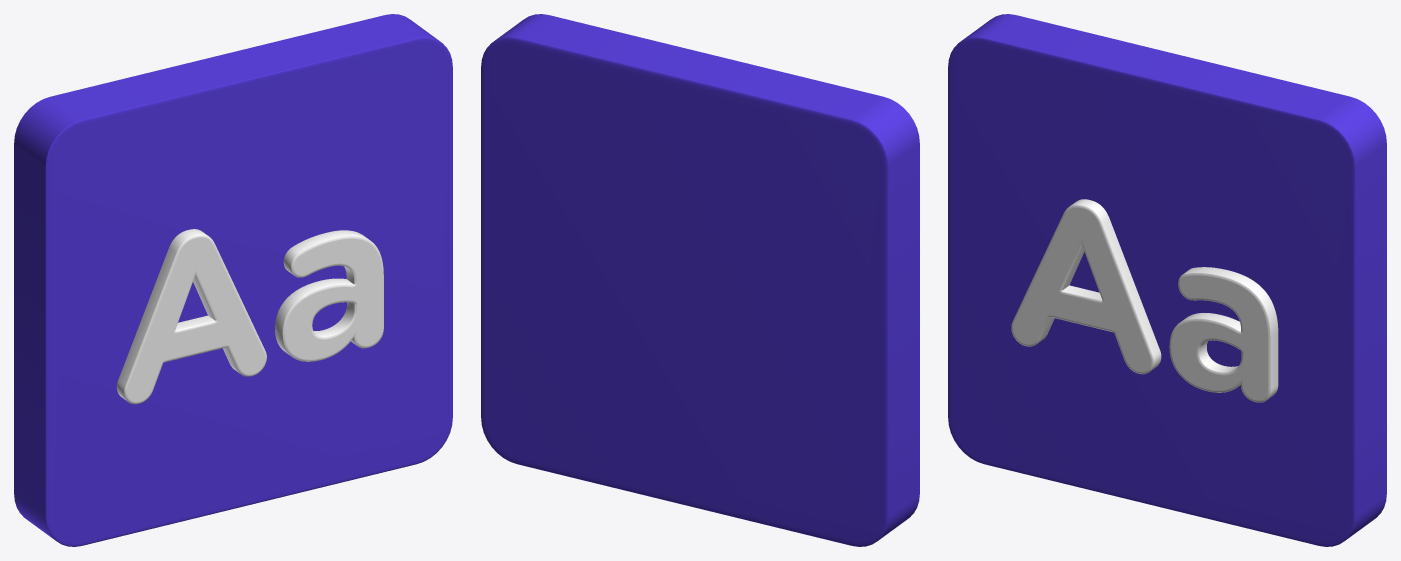
3 views of the same model, side by side, from view 1: azimuth 30°, elevation 25°; view 2: azimuth 150°, elevation 25°; view 3: azimuth 330°, elevation 25° (orthographic).
Visible parts, largest first — view 1: Cube, Curve.017; view 2: Cube; view 3: Cube, Curve.017.
Part boxes in pixels (box(x1,y1,x2,y2)): Cube: box(14, 14, 452, 546); Curve.017: box(116, 229, 383, 404); Cube: box(481, 14, 919, 546); Cube: box(948, 14, 1386, 546); Curve.017: box(1011, 199, 1278, 402).
Size of the model in its own units: 24.75 by 24.75 by 4.26.
